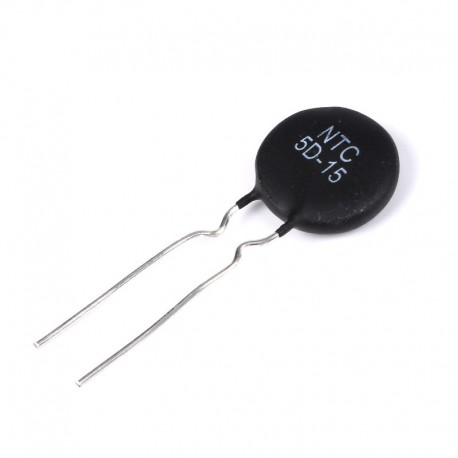capacitor: (182, 39, 430, 332)
